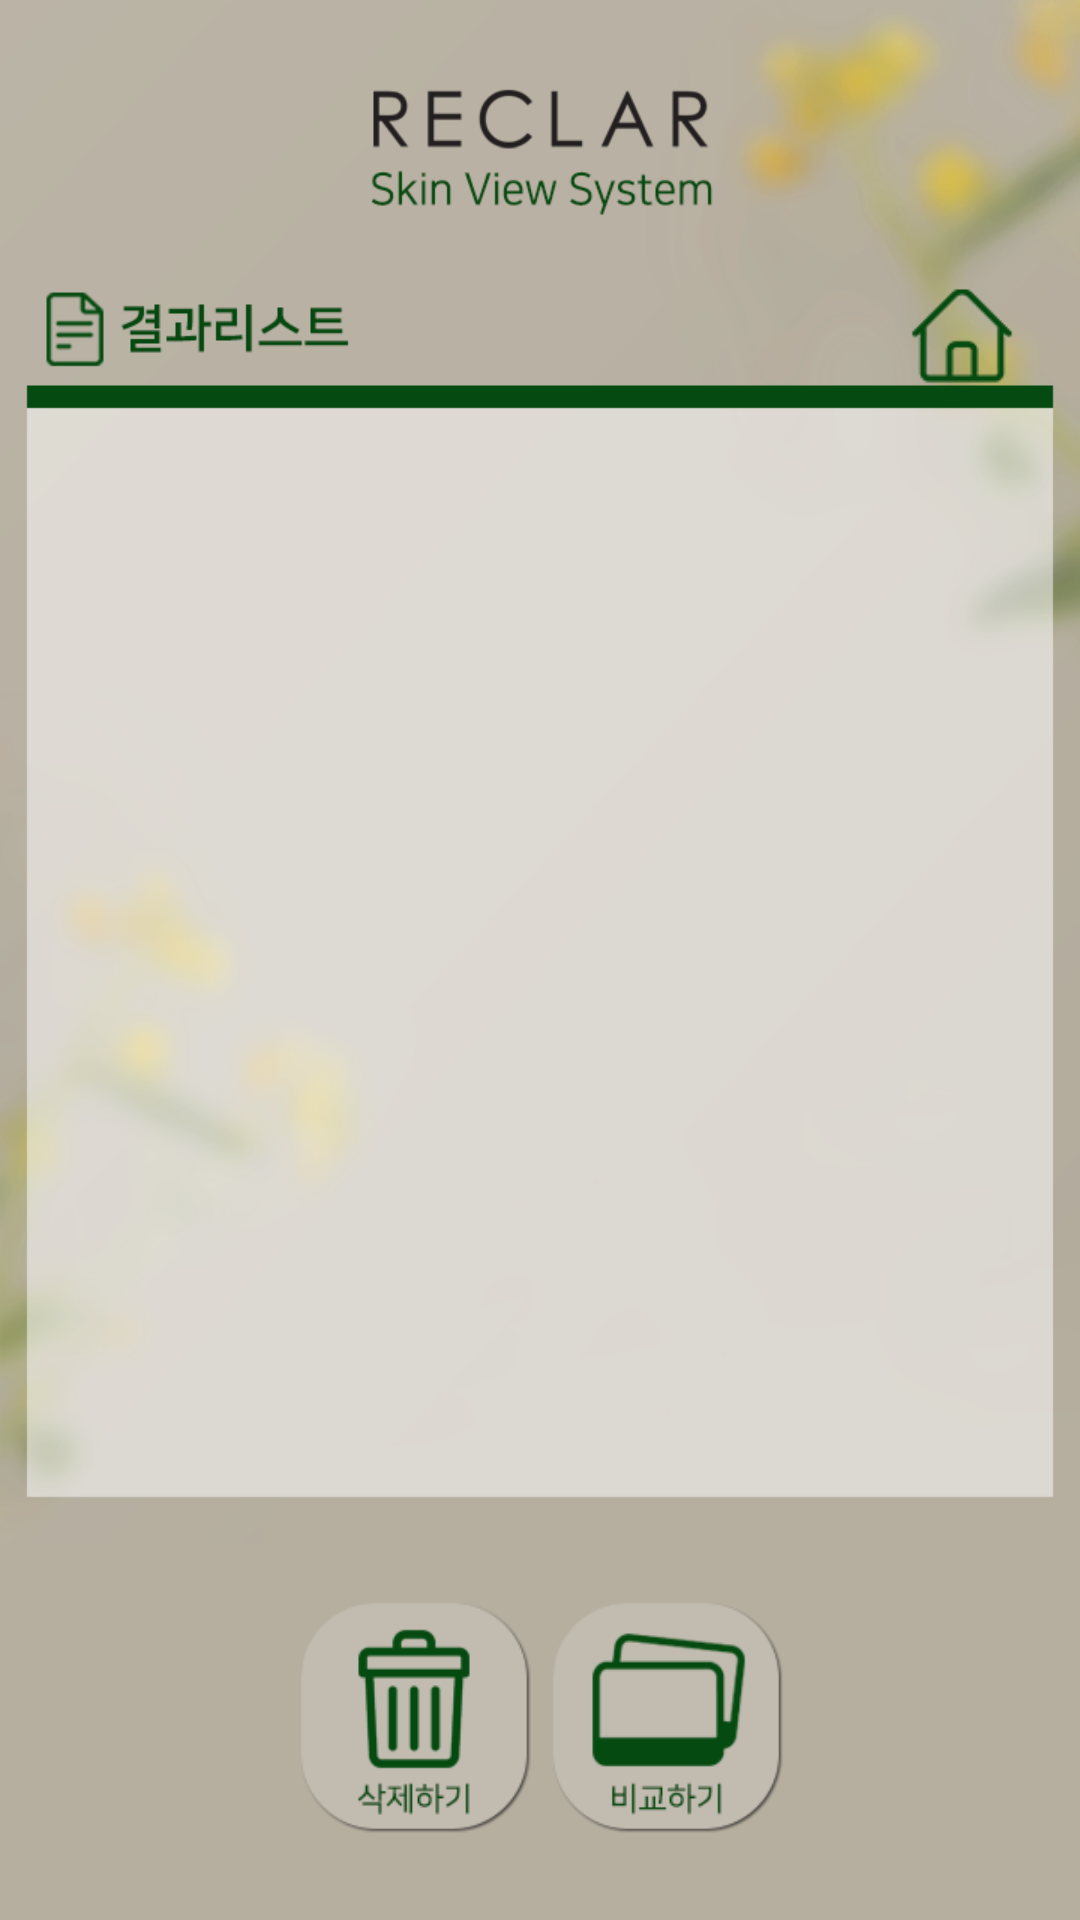

Locate icon controls on the screen. Image size 1080px x 1920px, boxes as (x1, y1, x2, y2).
home: (902, 275, 1022, 395)
